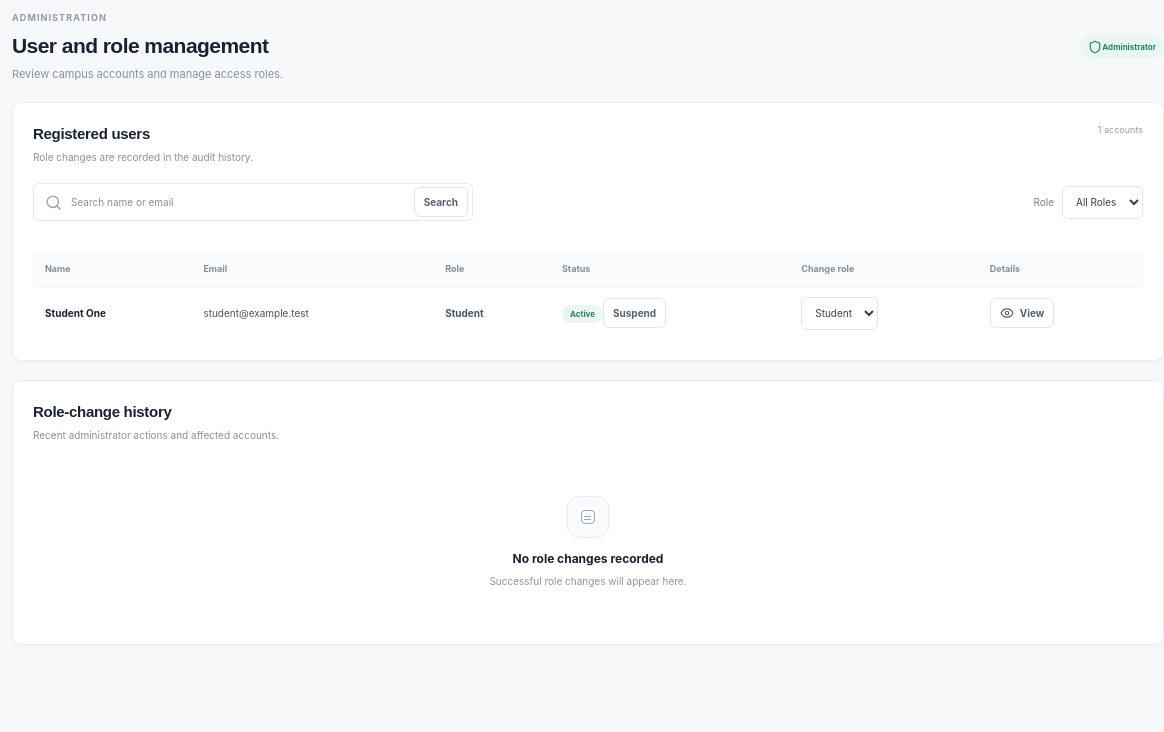
Test: admin user management UI › lists accounts and confirms role changes
Expected: the text "student@example.test" is shown, [191,286,433,340]
Select "faculty" in the dropdown named "Role for Student One" at (840, 313), box [801,297,878,330]
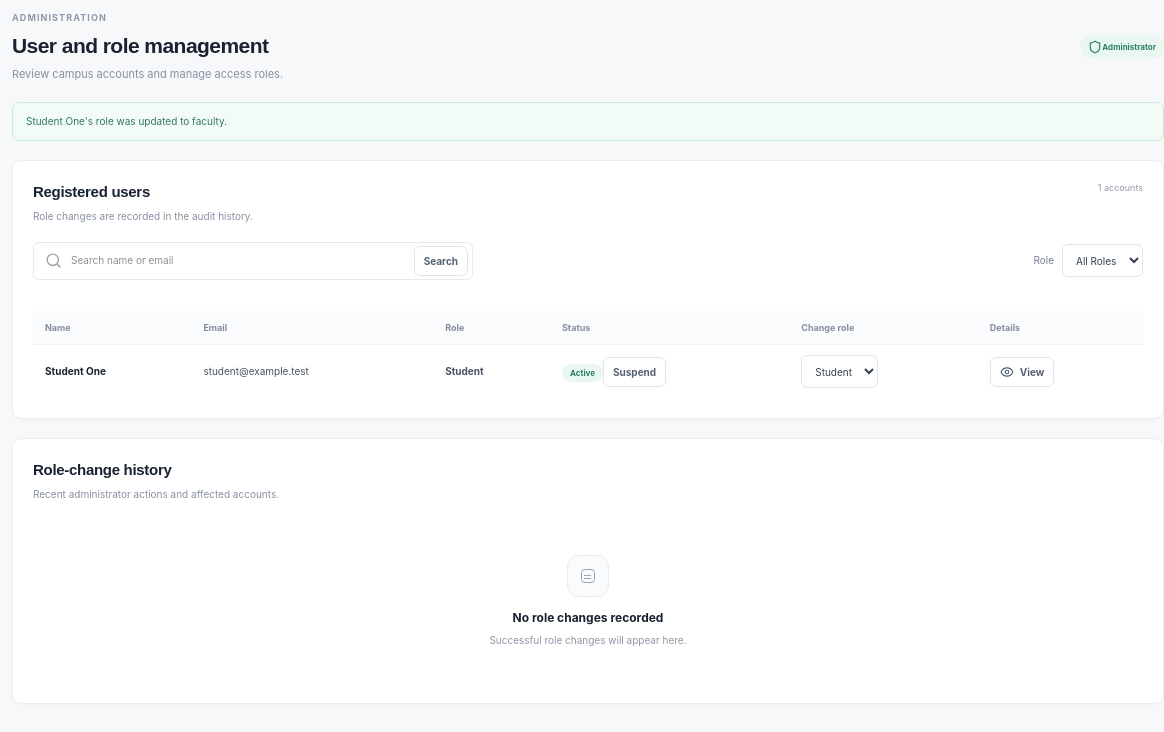
Now the text "Student One's role was updated to faculty." is shown, box [12,102,1163,141]
